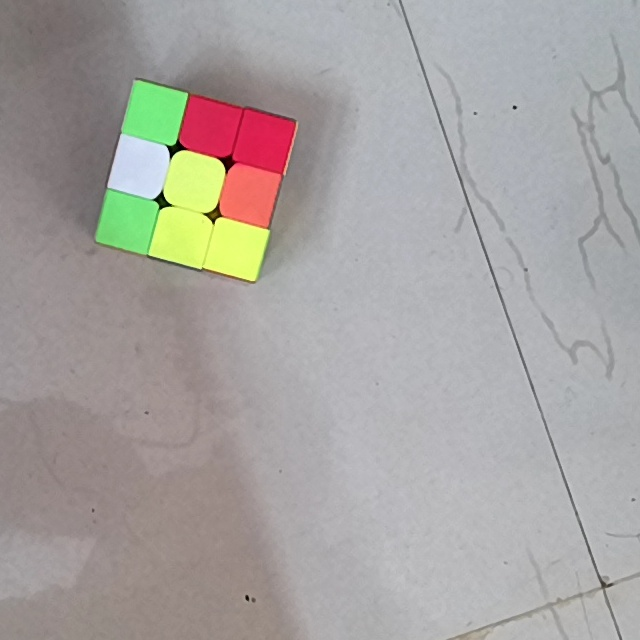tile: (133, 93, 176, 134), (105, 202, 148, 243), (215, 231, 258, 271), (160, 218, 204, 257), (191, 107, 232, 148), (120, 147, 160, 188), (173, 163, 214, 202), (244, 122, 285, 160), (232, 174, 269, 213)
